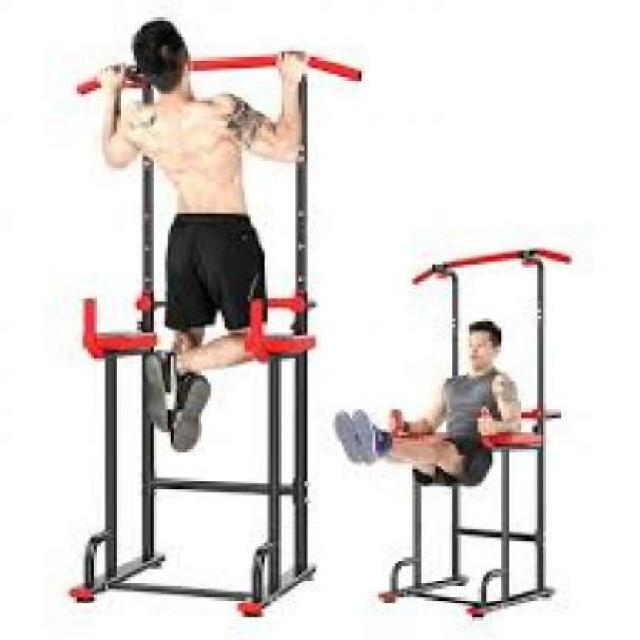chinning dipping: (69, 49, 363, 617), (377, 246, 577, 620)
